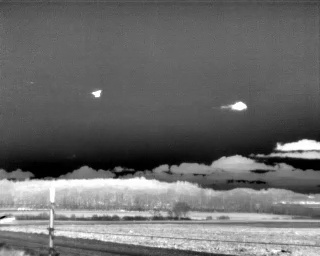DRONE: (88, 85, 106, 102)
